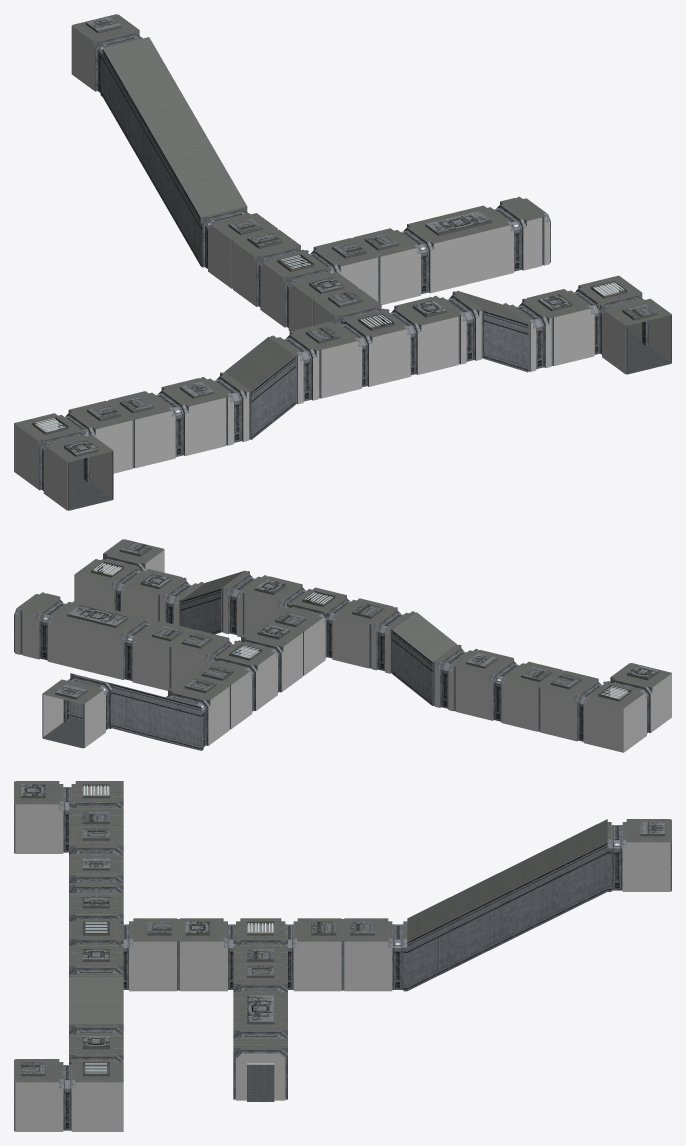
Rendered from poi_all_impl_bunker_imperial_prison_s01_r8_hall3_mesh_r8.fbx.
3 views of the same model, one above another, from view 1: azimuth 30°, elevation 25°; view 2: azimuth 150°, elevation 25°; view 3: azimuth 270°, elevation 25° (orthographic). The views are drawn at different scales.
Visible parts, largest first — view 1: mesh_node; view 2: mesh_node; view 3: mesh_node.
Boxes of the visible parts, left/top/right/bottom form: mesh_node: left=14, top=14, right=671, bottom=510; mesh_node: left=14, top=539, right=671, bottom=752; mesh_node: left=14, top=781, right=671, bottom=1131.
Bounding box in the file's own units: 52 × 14.2 × 48.
